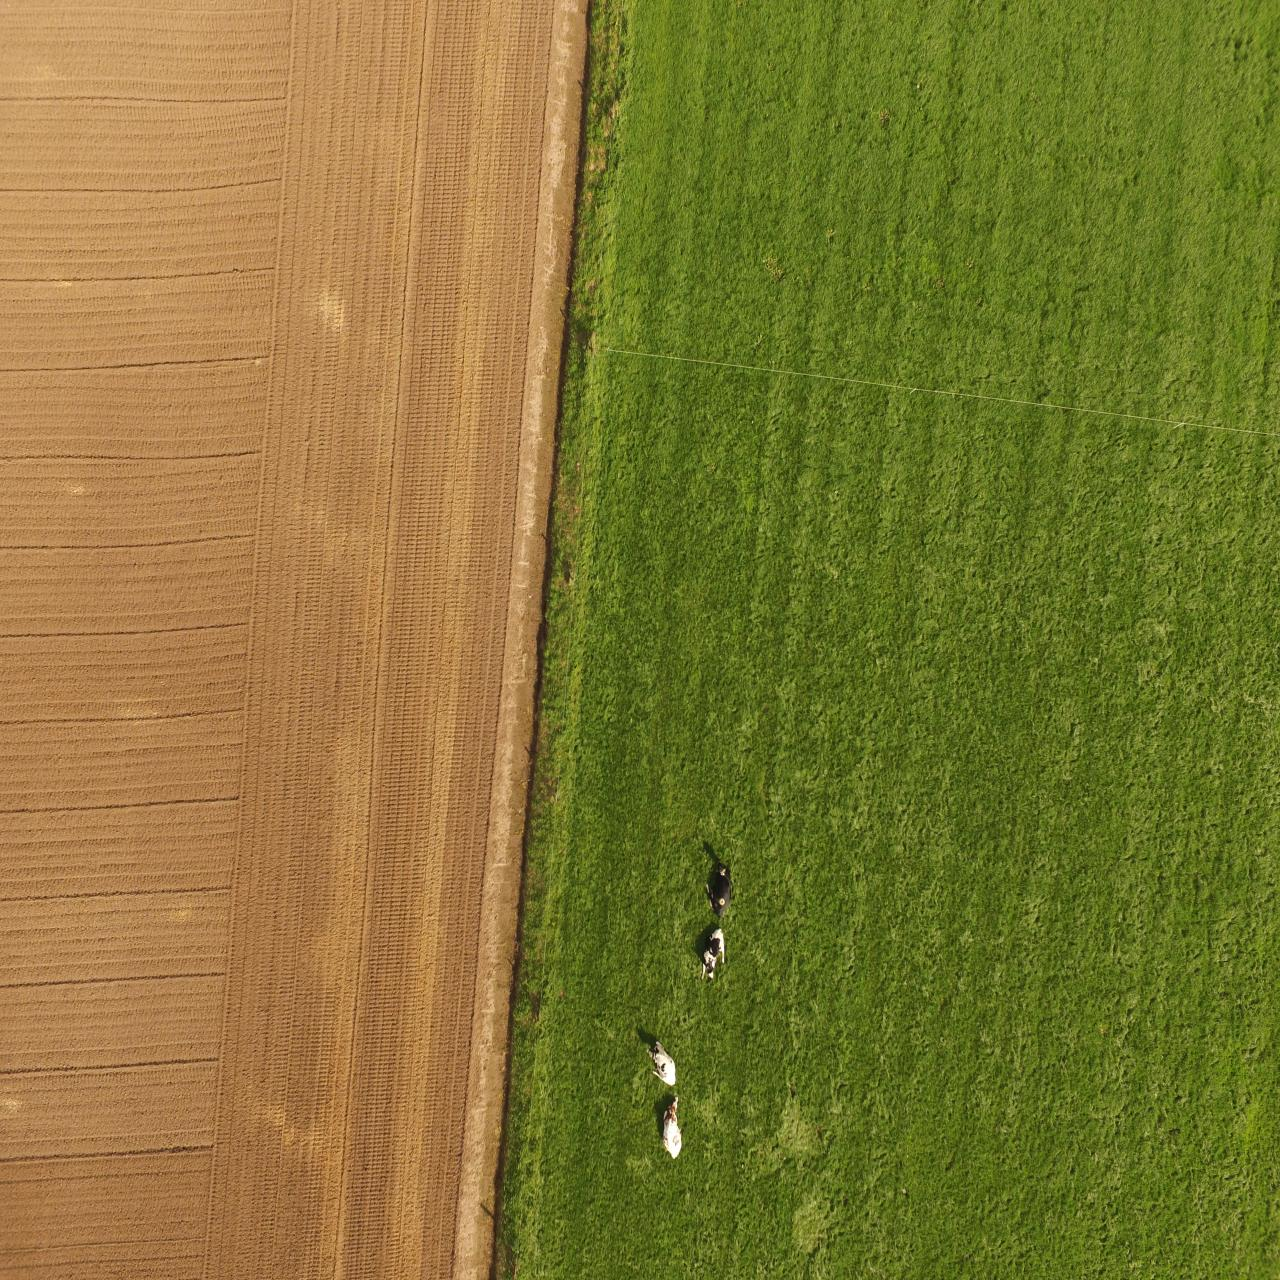cow: (659, 1092, 685, 1160), (645, 1035, 678, 1088), (703, 858, 731, 917), (700, 926, 724, 982)
